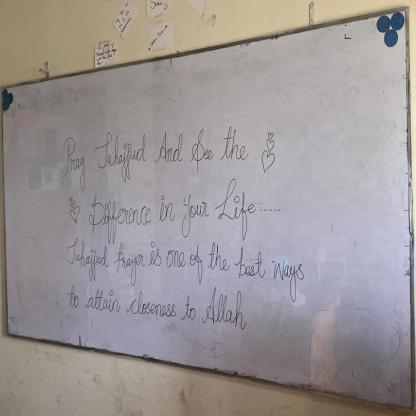Handwritten text: (52, 96, 256, 188), (58, 229, 311, 293), (54, 276, 259, 341), (85, 175, 265, 241)
Whiteboard: (0, 8, 411, 416)
